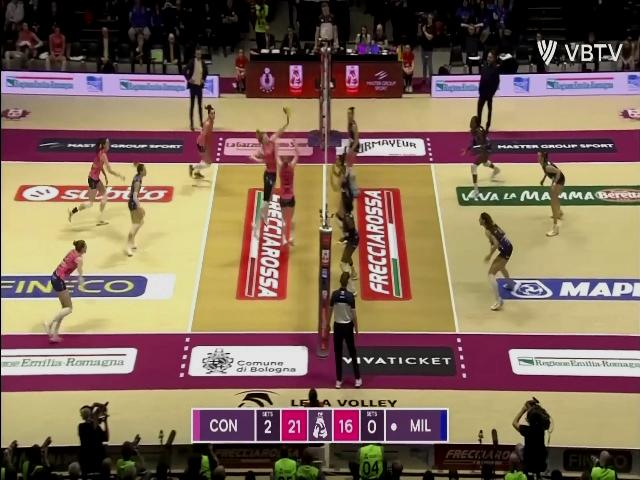volleyball court: (2, 161, 638, 337)
